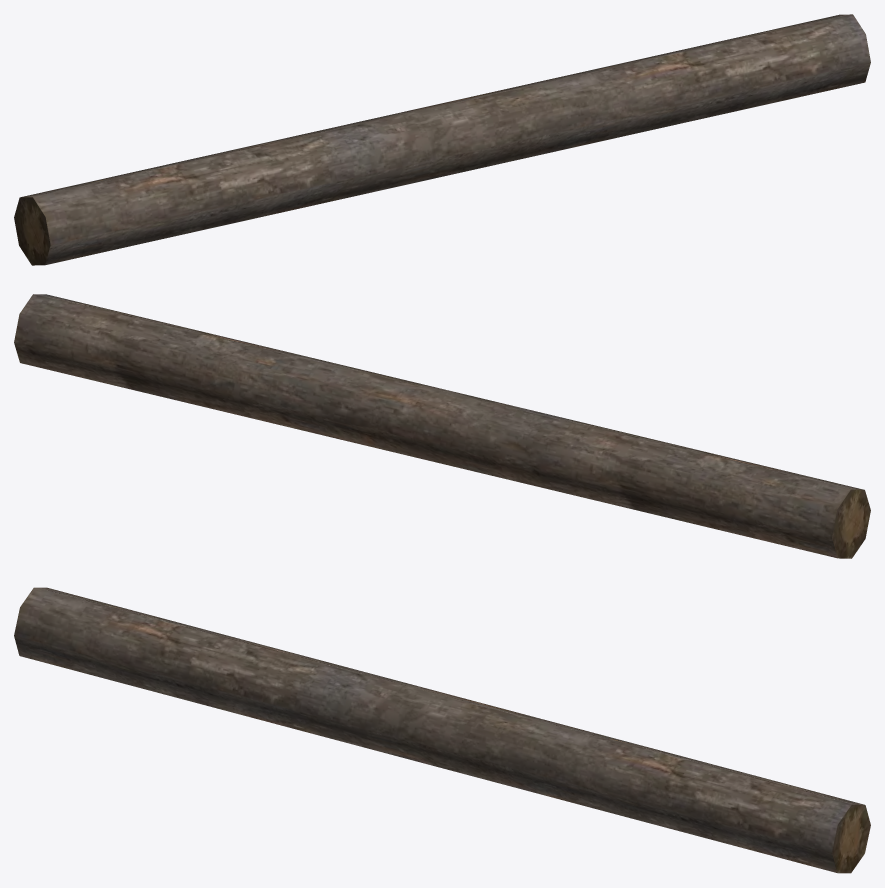
3 views of the same model, one above another, from view 1: azimuth 30°, elevation 25°; view 2: azimuth 150°, elevation 25°; view 3: azimuth 330°, elevation 25° (orthographic).
Visible parts, largest first — view 1: SW_CS_lo; view 2: SW_CS_lo; view 3: SW_CS_lo.
Boxes of the visible parts, <box> form: SW_CS_lo: <box>14,14,870,265</box>; SW_CS_lo: <box>14,294,870,558</box>; SW_CS_lo: <box>14,587,870,873</box>.
Bounding box in the file's own units: 1.29 × 0.1188 × 0.1212.
Materials: 1 (1 with a texture image).
